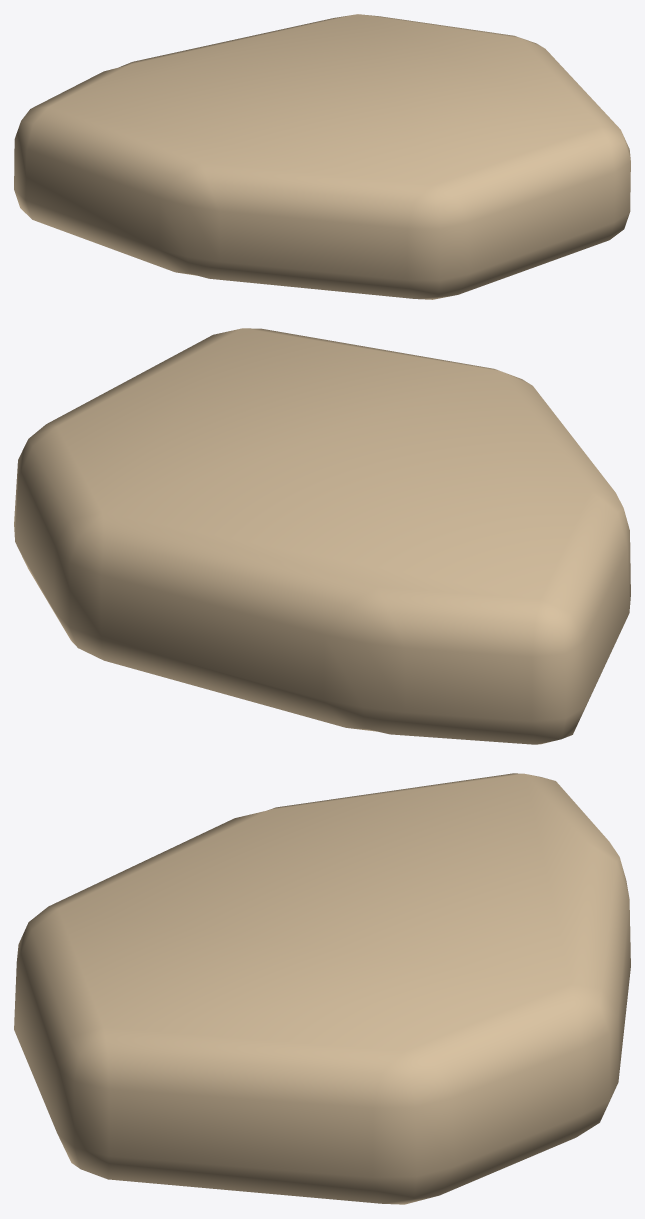
File: RUBBEL_SCHERBE_2.glb
3 renders of one model, top to bottom at view 1: azimuth 30°, elevation 25°; view 2: azimuth 150°, elevation 25°; view 3: azimuth 270°, elevation 25°, orthographic. The views are drawn at different scales.
Parts seen in each view (by area): view 1: RUBBEL_SCHERBE_2; view 2: RUBBEL_SCHERBE_2; view 3: RUBBEL_SCHERBE_2.
Boxes of the visible parts, x1=… form: RUBBEL_SCHERBE_2: x1=14, y1=14, x2=630, y2=299; RUBBEL_SCHERBE_2: x1=14, y1=328, x2=630, y2=744; RUBBEL_SCHERBE_2: x1=14, y1=773, x2=630, y2=1204.
Size of the model in its own units: 0.8053 by 0.1858 by 0.6689.
